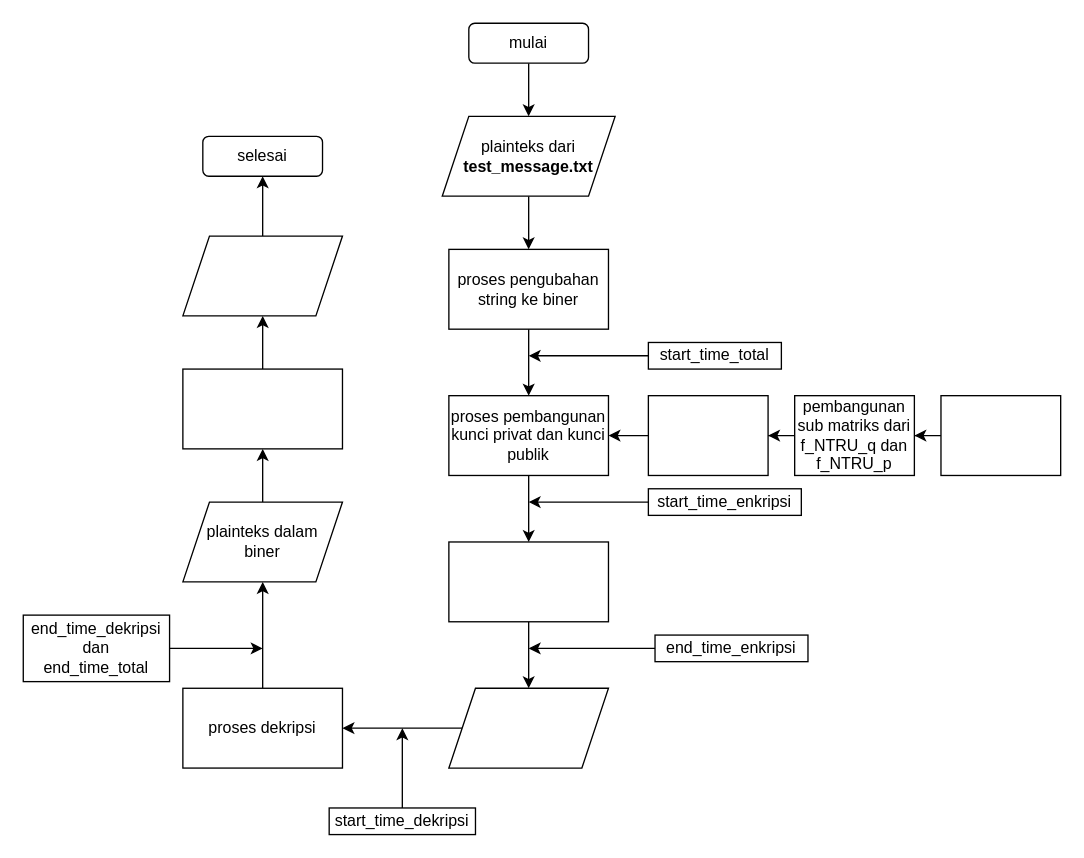
This 1084x858 diagram has some shape labels left out. Each missing label, with the centre of its shape:
"cipherteks" goes at point 528,727.
"pembangunan matriks f" goes at point 707,434.
"pencarian f_NTRU yang invertible" goes at point 1000,434.
"plainteks" goes at point 262,275.
"proses enkripsi plainteks" goes at point 528,581.
"proses pengubahan biner ke string" goes at point 262,408.
